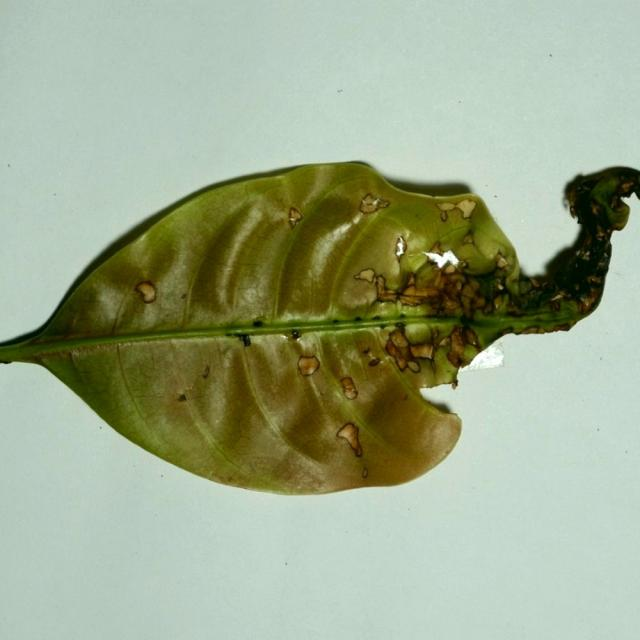Anthracnose: (386, 325, 436, 372), (423, 241, 460, 275), (436, 198, 479, 223), (335, 421, 363, 458), (287, 207, 306, 249), (372, 274, 397, 303), (358, 193, 389, 215), (296, 353, 321, 377), (134, 281, 157, 304), (340, 376, 359, 400), (353, 268, 377, 284), (395, 235, 407, 258), (429, 241, 443, 256), (235, 333, 251, 346), (436, 202, 456, 212), (495, 254, 508, 269), (290, 329, 301, 339), (369, 358, 380, 367), (178, 394, 187, 402)
Mango: (0, 161, 639, 499)
